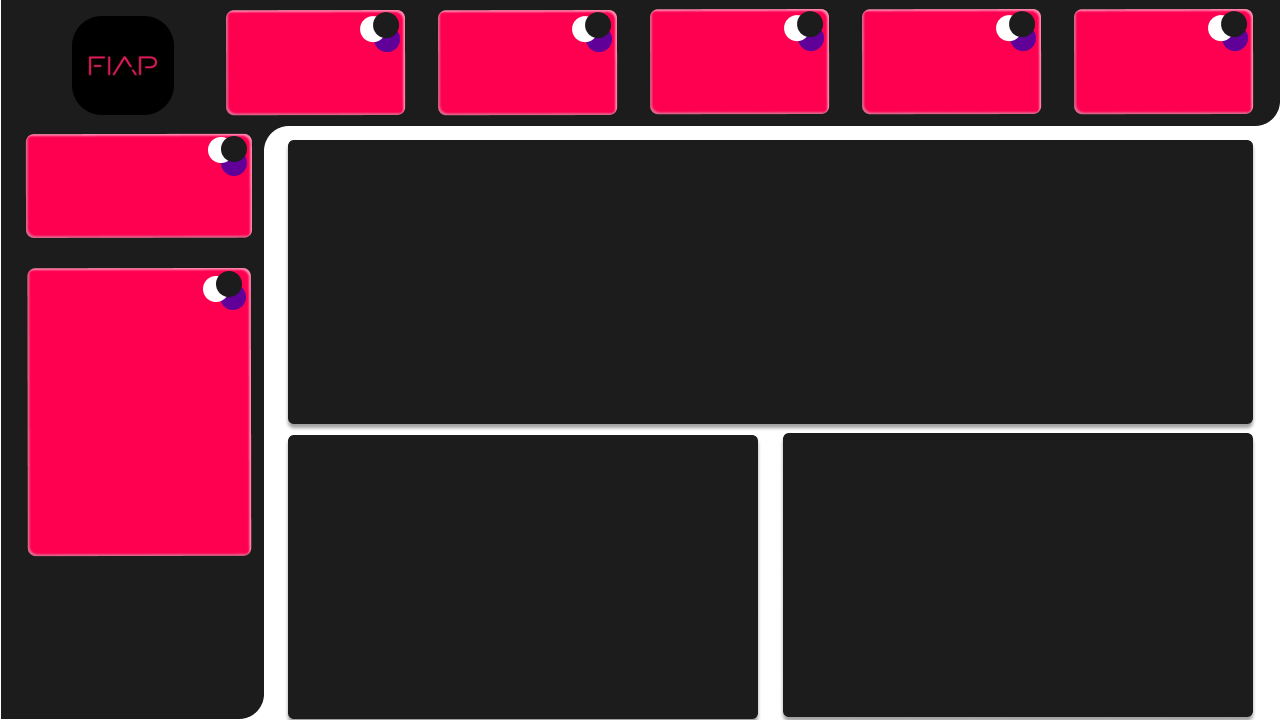

The dashboard page shown, as its layout file describes it:
{"tool":"powerbi","page":{"name":"Página 1","canvas":[1280,720],"ordinal":0},"visuals":[{"type":"card","title":"Preço mínimo","fields":{"Values":["Min(meses.preco_bruto_Brent_FOB)"]},"box":[1075.5,10.8,174.2,98.8],"z":0},{"type":"card","title":"Preço Máximo","fields":{"Values":["Max(meses.preco_bruto_Brent_FOB)"]},"box":[653.6,10.8,174.2,98.8],"z":1000},{"type":"card","title":"Preço médio","fields":{"Values":["Avg(meses.preco_bruto_Brent_FOB)"]},"box":[862.7,10.8,177.8,98.8],"z":2000},{"type":"slicer","title":"Ano","fields":{"Values":["meses.Ano"]},"box":[25.1,270.2,224.4,97.9],"z":3000},{"type":"clusteredBarChart","title":"Maior Preço por Ano","fields":{"Category":["Maior_Valor_Por_Ano.Ano"],"Y":["Planilha1.Preco_Maximo"]},"box":[785.2,429.3,465.2,289.8],"z":4000},{"type":"lineChart","fields":{"Y":["Planilha1.Preco_Minimo","Planilha1.Preco_Maximo","Planilha1.Preco_Medio"],"Category":["meses.Ano"]},"box":[291.8,139.2,957.9,280.1],"z":5000},{"type":"card","title":"Lucro Total","fields":{"Values":["Sum(meses.preco_bruto_Brent_FOB)"]},"box":[441.7,10.8,175.1,98.8],"z":6000},{"type":"card","title":"Ocorrido","fields":{"Values":["CountNonNull(Planilha1.Acontecimento)"]},"box":[228,10.8,176,98.8],"z":7000},{"type":"gauge","title":"KPI","fields":{"MaxValue":["Planilha1.Preco_Maximo"],"MinValue":["Planilha1.Preco_Minimo"],"Y":["Max(meses.preco_bruto_Brent_FOB)"],"TargetValue":["Planilha1.Preco_Medio"]},"box":[25.1,132.9,224.4,102.3],"z":8000},{"type":"card","title":"Atualização ","fields":{"Values":["meses.Data_Ultima_Atualizacao"]},"box":[25.1,574.6,224.4,109.5],"z":9000},{"type":"tableEx","fields":{"Values":["Planilha1.Ano Final","Planilha1.Acontecimento"]},"box":[288.2,430,467.7,289.1],"z":10000}]}

Visuals, with their boxes in screenshot pixels (x1, y1, x2, y2):
"Preço mínimo" card: bbox(1070, 4, 1248, 105)
"Preço Máximo" card: bbox(638, 4, 816, 105)
"Preço médio" card: bbox(852, 4, 1034, 105)
"Ano" slicer: bbox(0, 270, 225, 370)
"Maior Preço por Ano" clusteredBarChart: bbox(773, 432, 1248, 719)
lineChart - Planilha1.Preco_Minimo x Planilha1.Preco_Maximo: bbox(268, 136, 1248, 422)
"Lucro Total" card: bbox(422, 4, 601, 105)
"Ocorrido" card: bbox(203, 4, 383, 105)
"KPI" gauge: bbox(0, 129, 225, 234)
"Atualização " card: bbox(0, 581, 225, 693)
tableEx - Planilha1.Ano Final x Planilha1.Acontecimento: bbox(265, 433, 743, 719)
